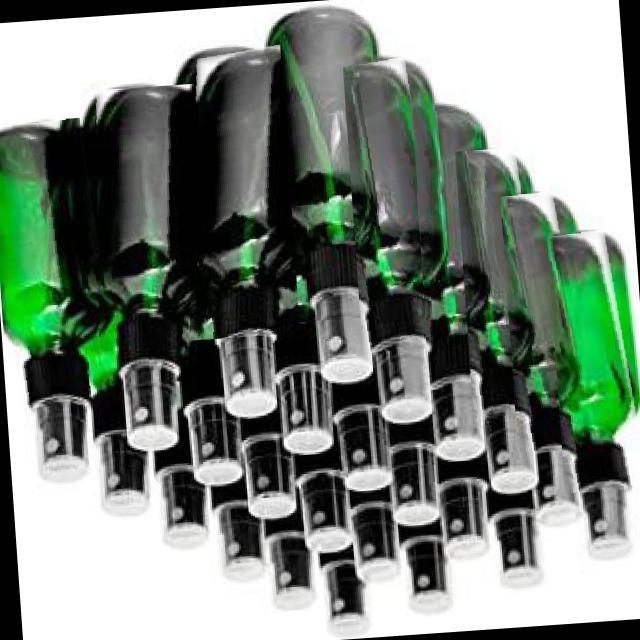Glass: (260, 6, 398, 316), (77, 82, 215, 382), (166, 40, 298, 339), (0, 115, 121, 408), (341, 54, 449, 351), (453, 144, 552, 420), (408, 102, 502, 389), (498, 187, 598, 452), (545, 226, 640, 492)
